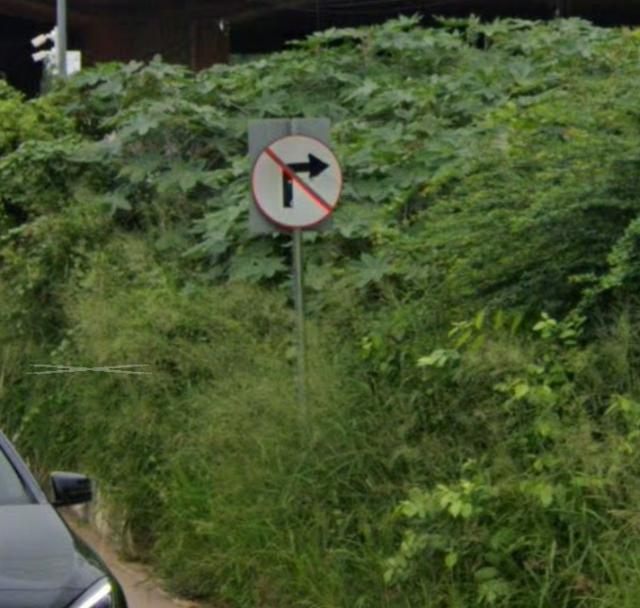not_turn_right: (248, 138, 348, 232)
